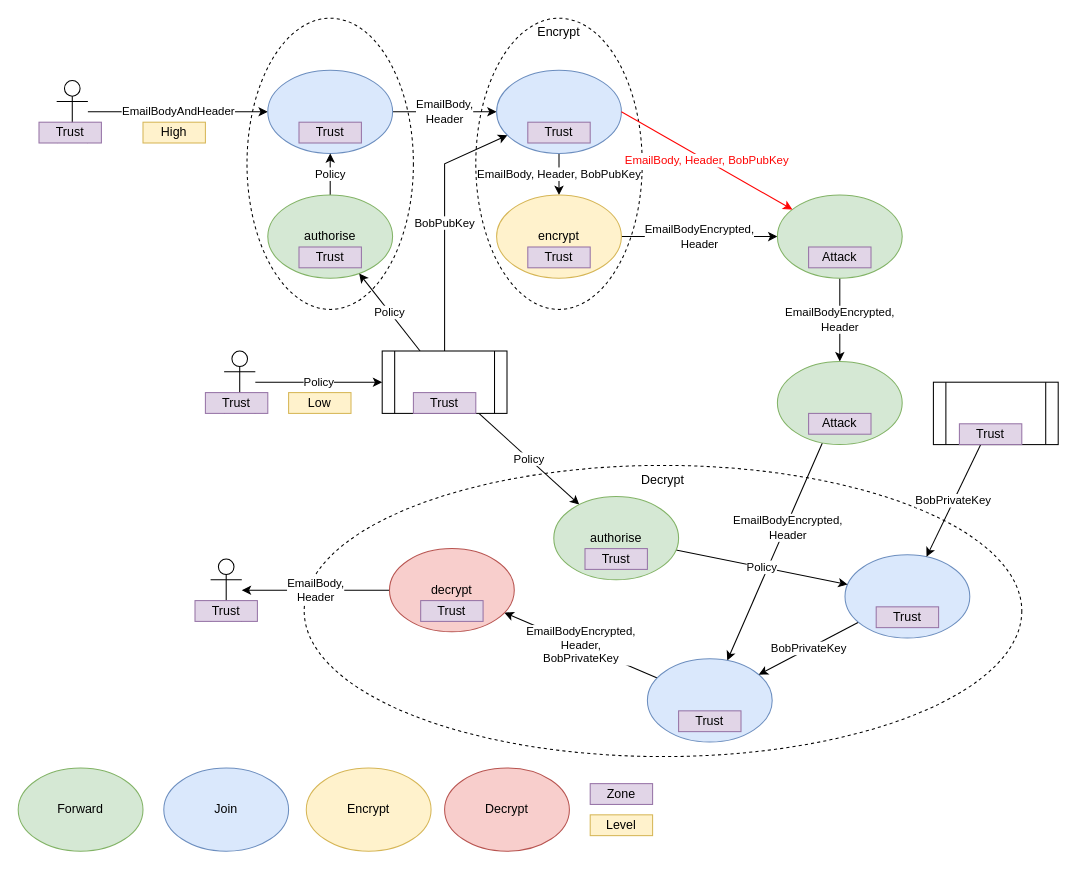
This 1076x869 diagram has some shape labels left out. Here are the shapes that lost their labels. From the top down, the box of each, then its label:
(56, 80, 88, 143): Alice
(267, 69, 393, 153): split mail
(496, 69, 621, 153): prepare encryption
(246, 17, 413, 309): Reclassify
(776, 194, 902, 278): SMTP
(223, 350, 255, 413): PolicyInitiator
(381, 350, 507, 413): Policy DS
(776, 360, 902, 445): POP3
(932, 381, 1058, 445): Bob DS
(210, 558, 242, 621): Bob
(844, 554, 970, 638): authorise key reading
(646, 658, 772, 742): prepare decryption
